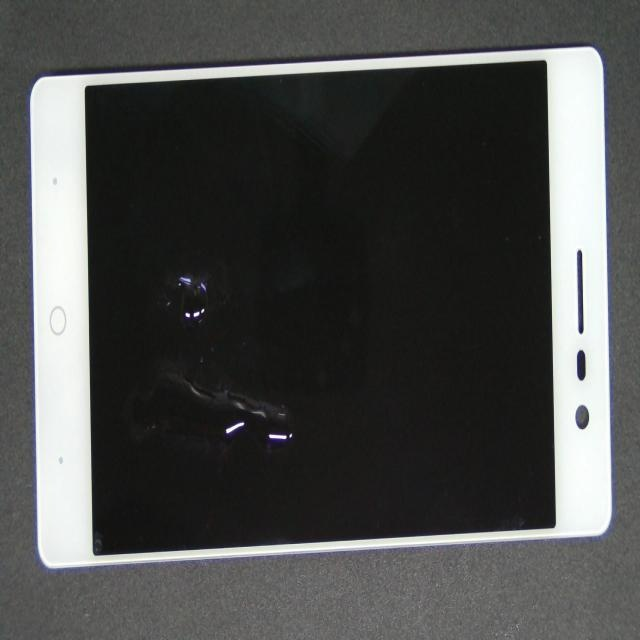oil: (103, 247, 404, 640), (110, 140, 294, 417)
